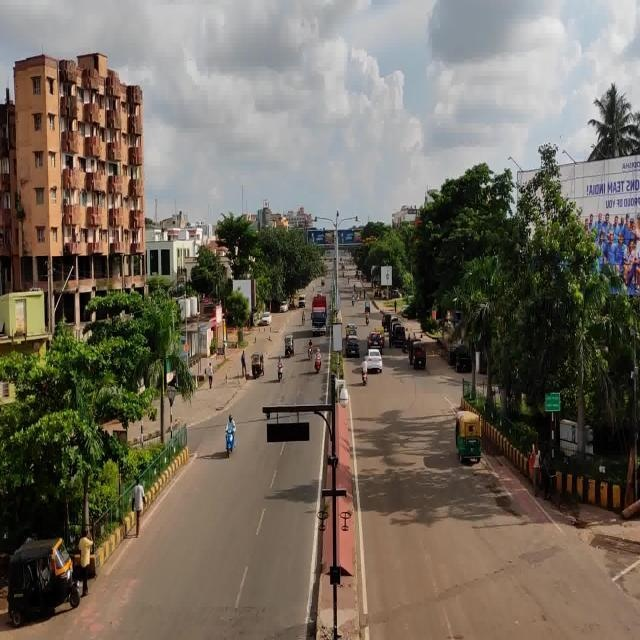Motorcycle: (214, 429, 232, 468), (274, 353, 286, 385)
